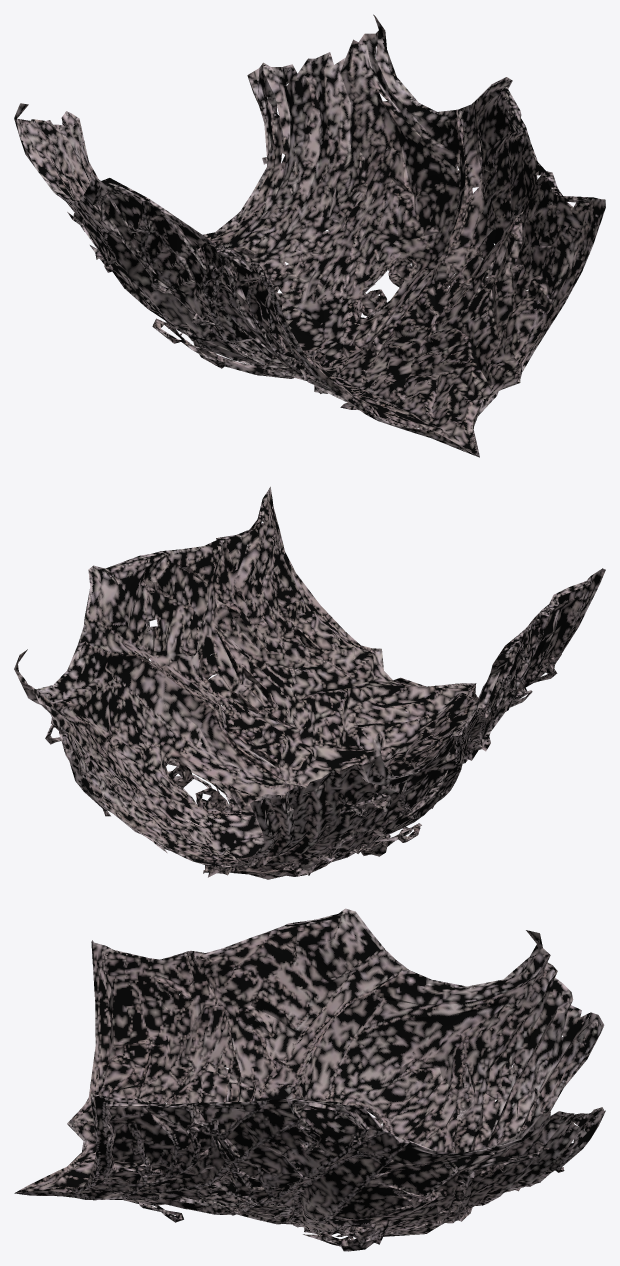
Rendered from vampire_chestplate_LOD1.glb.
3 views of the same model, one above another, from view 1: azimuth 30°, elevation 25°; view 2: azimuth 150°, elevation 25°; view 3: azimuth 270°, elevation 25° (orthographic). The views are drawn at different scales.
Parts seen in each view (by area): view 1: vampire_chestplate_LOD1; view 2: vampire_chestplate_LOD1; view 3: vampire_chestplate_LOD1.
Boxes of the visible parts, x1,y1,x2,y2 form: vampire_chestplate_LOD1: (14,14,605,457); vampire_chestplate_LOD1: (14,486,605,879); vampire_chestplate_LOD1: (14,908,605,1251).
Size of the model in its own units: 0.5914 by 0.3329 by 0.7757.
1 material, 1 textured.
